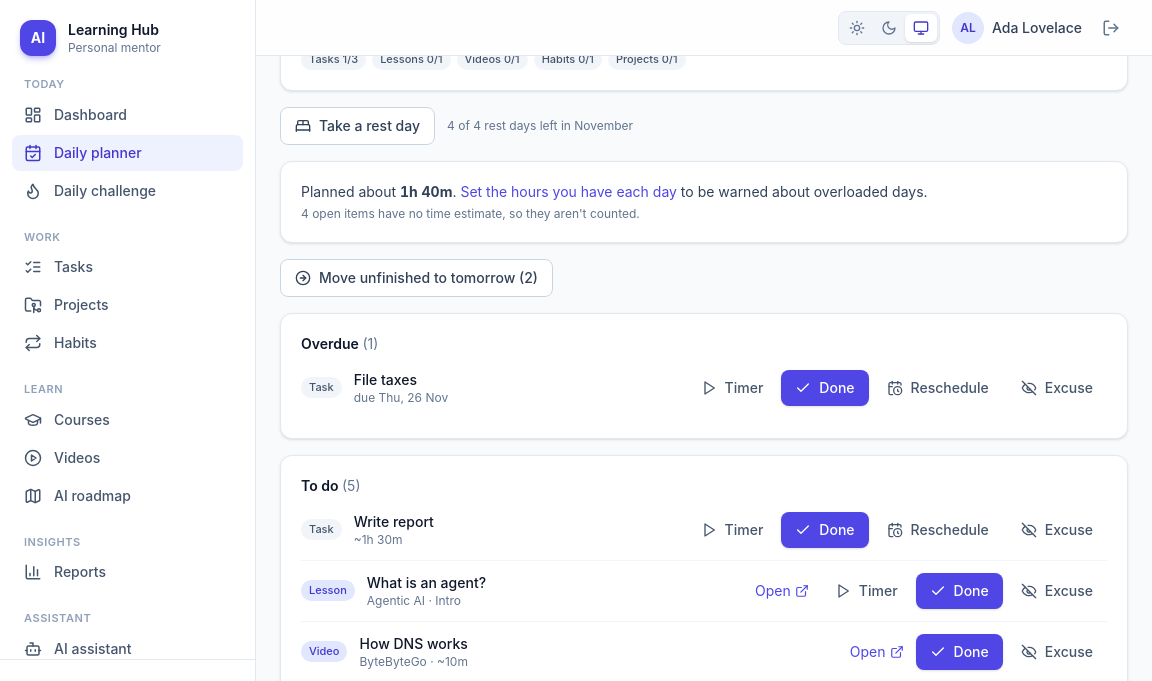
Test case: daily planner › excusing needs a reason, moves the item to Excused and takes it out of the percentage
(page scrolled)
Click the button with aria-label "Excuse File taxes" at (1057, 388), box [1007,370,1107,406]
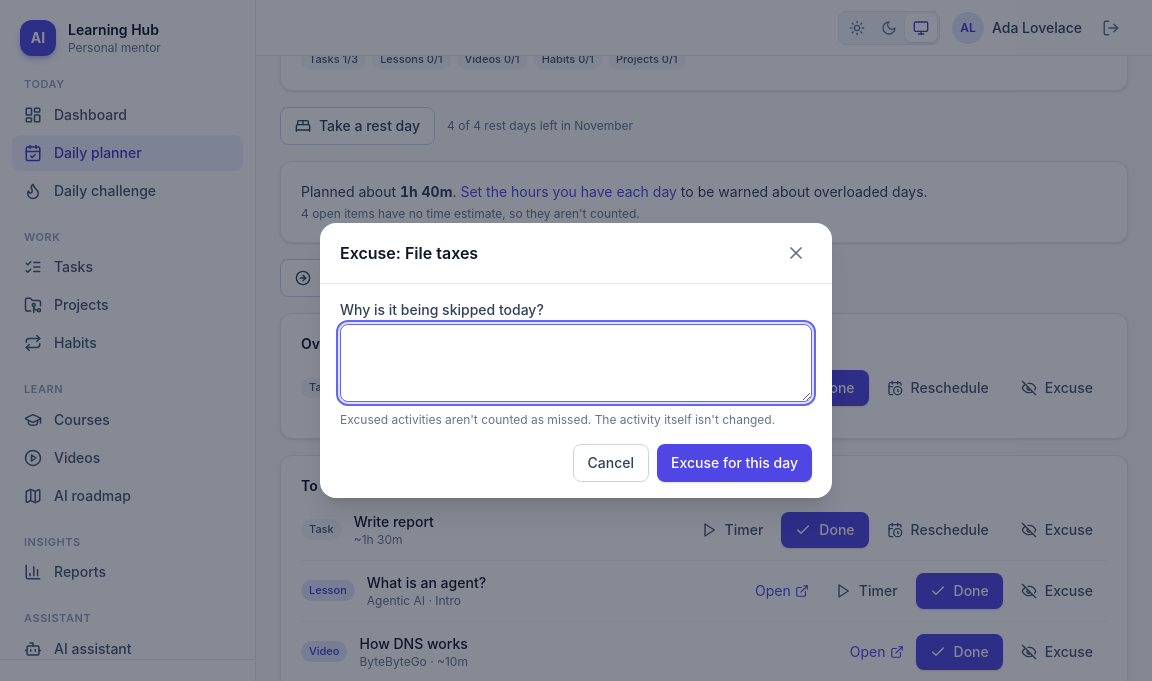
Click the button "Excuse for this day" at (735, 462), box [657,444,812,482]
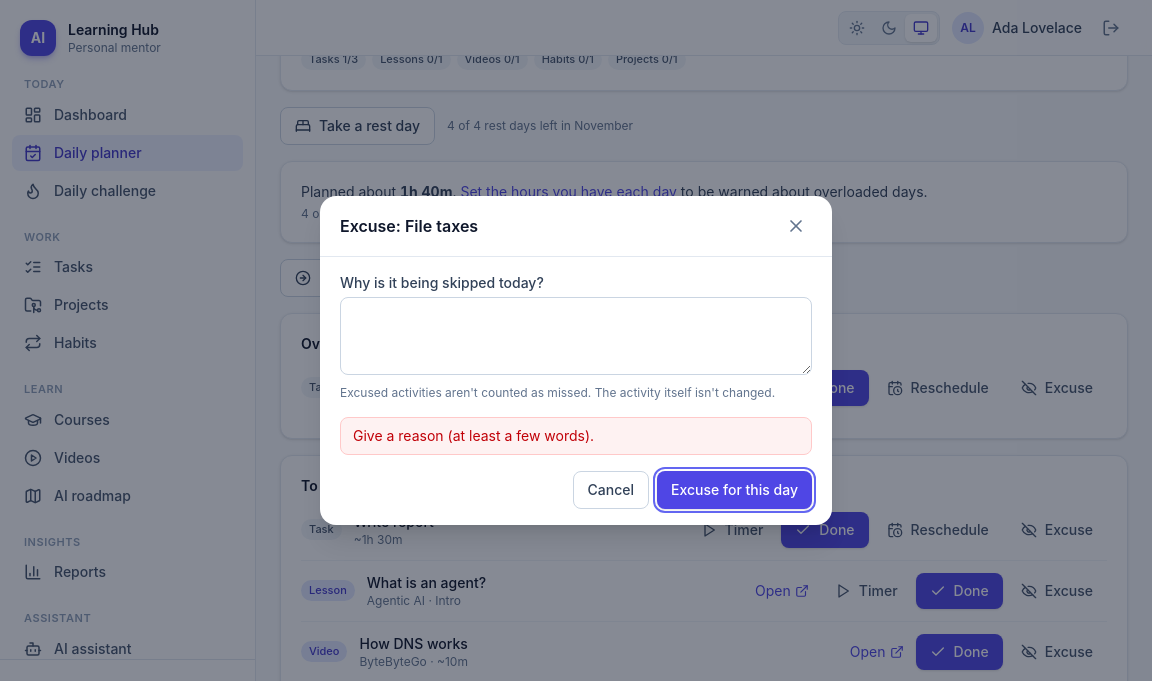
Result: the message shows "Give a reason" at [353,426,594,444]
Type "Office was closed" into the text box labelled "Why is it being skipped" at (576, 336), box [340,296,812,374]
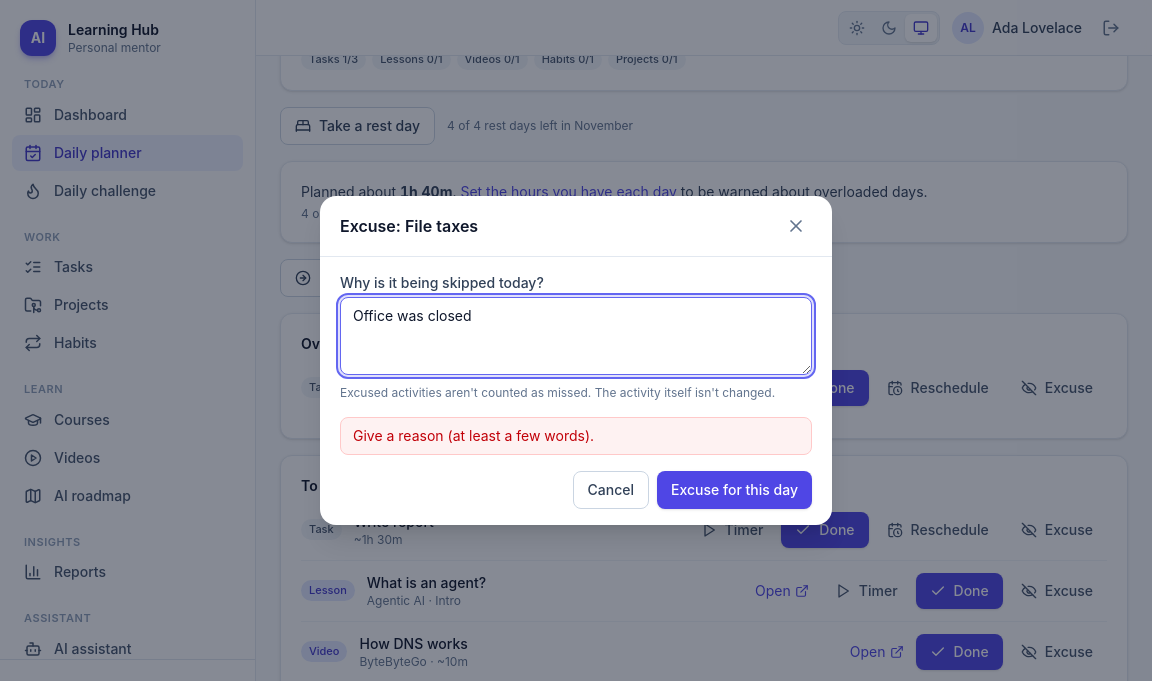
Click the button "Excuse for this day" at (735, 490), box [657,470,812,508]
(page scrolled)
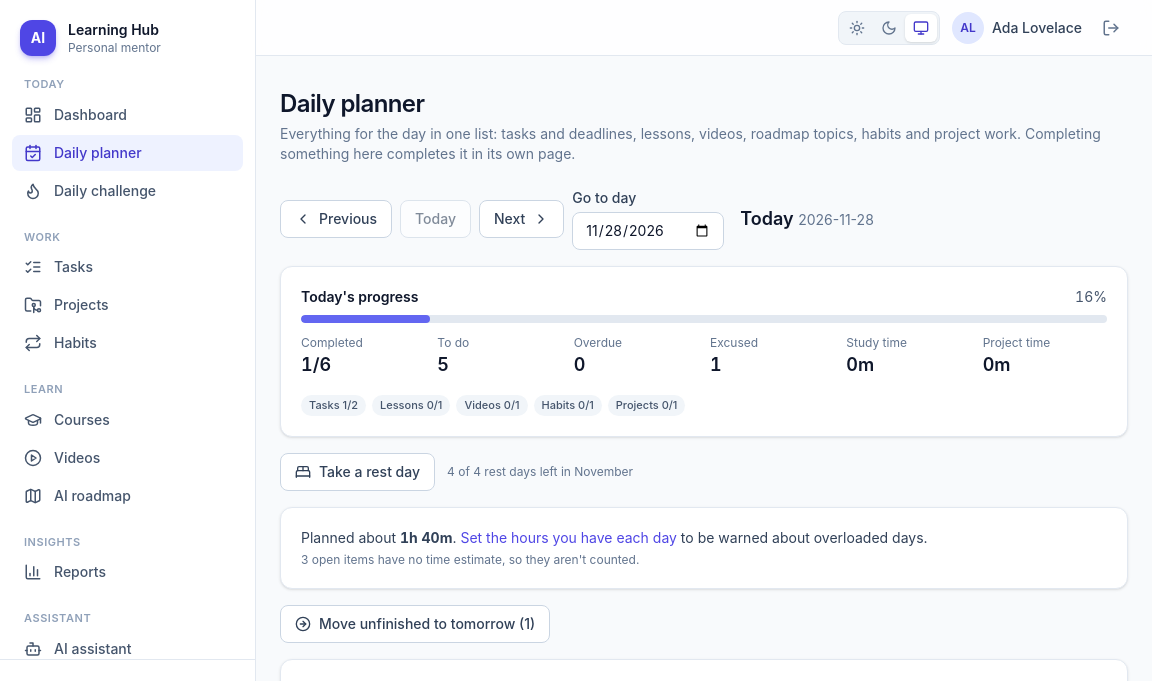
Result: the text "0" is shown at [574,354,585,375]
Result: the text "1" is shown at [710,354,722,375]
Result: the text "1/6" is shown at [301,354,331,375]
